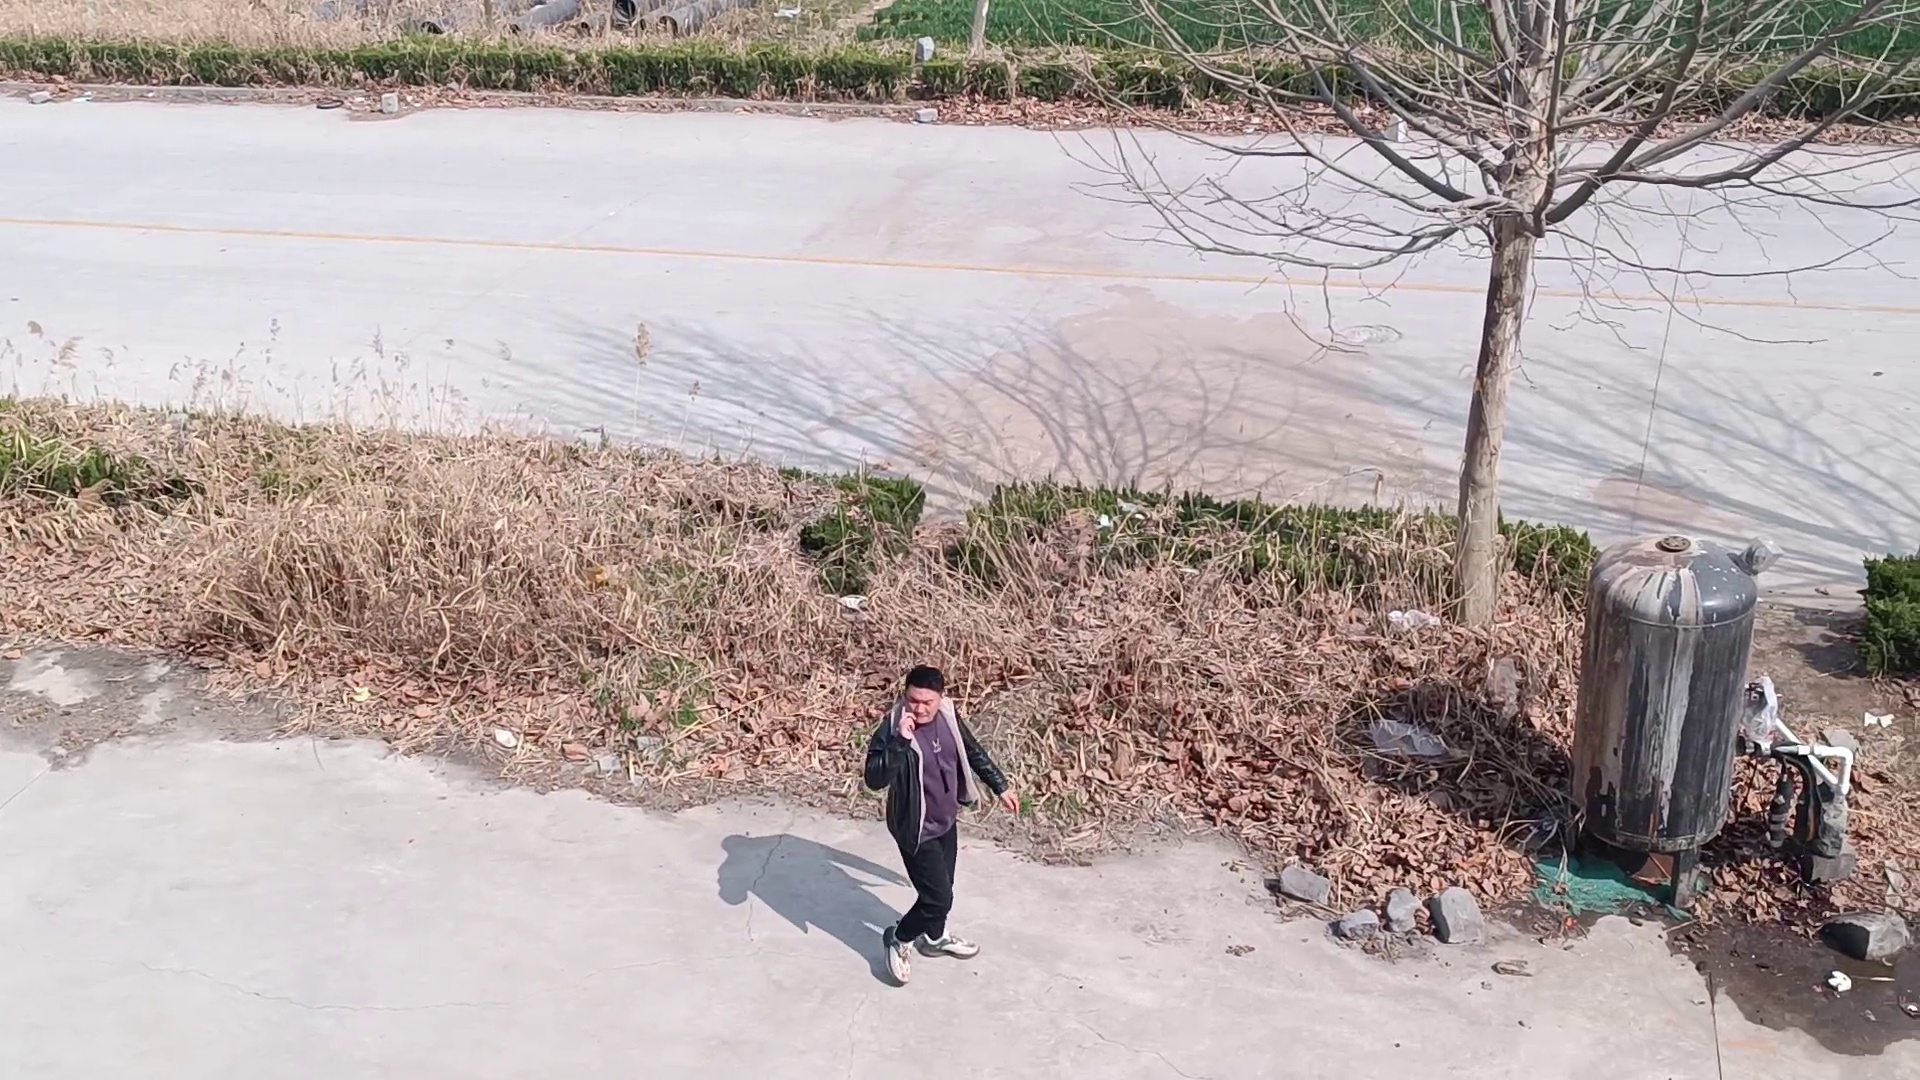phone: (878, 669, 949, 735)
